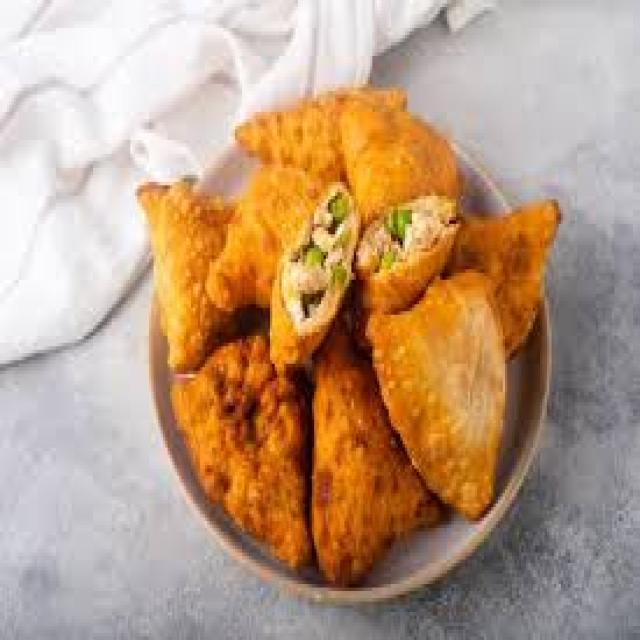SAMOSA: (368, 272, 504, 522), (172, 335, 302, 559), (315, 356, 435, 581), (139, 186, 241, 377), (448, 199, 560, 348), (237, 89, 408, 181), (222, 166, 329, 307), (343, 98, 462, 212)
